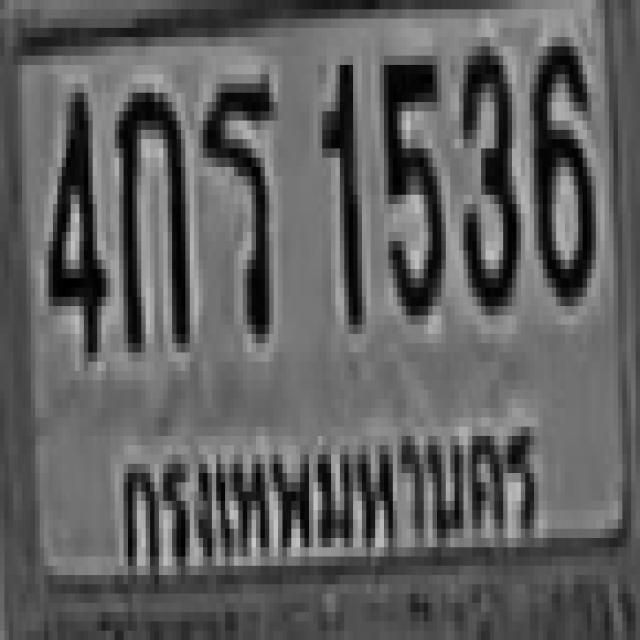1: (318, 51, 357, 320)
10GorGai: (115, 84, 185, 343)
3: (459, 37, 516, 306)
4: (44, 84, 102, 352)
44RorRuea: (199, 74, 269, 334)
5: (379, 47, 442, 316)
6: (530, 28, 592, 297)
Bangkok: (102, 401, 560, 581)
